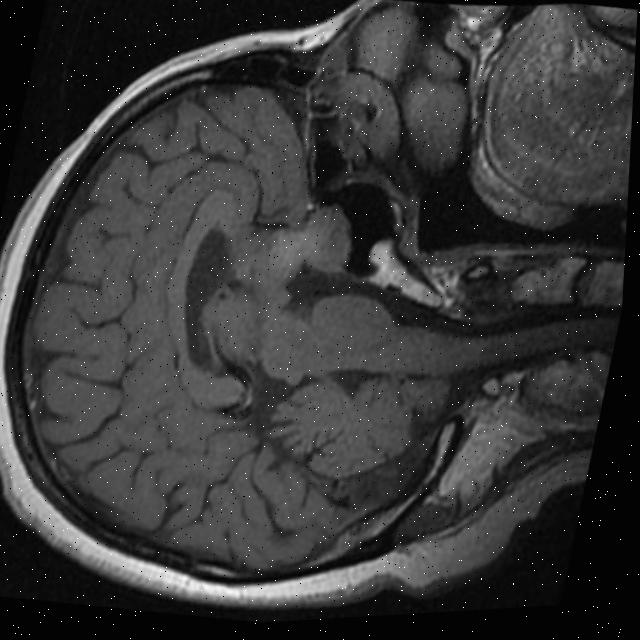Pituitary: (296, 197, 361, 278)
